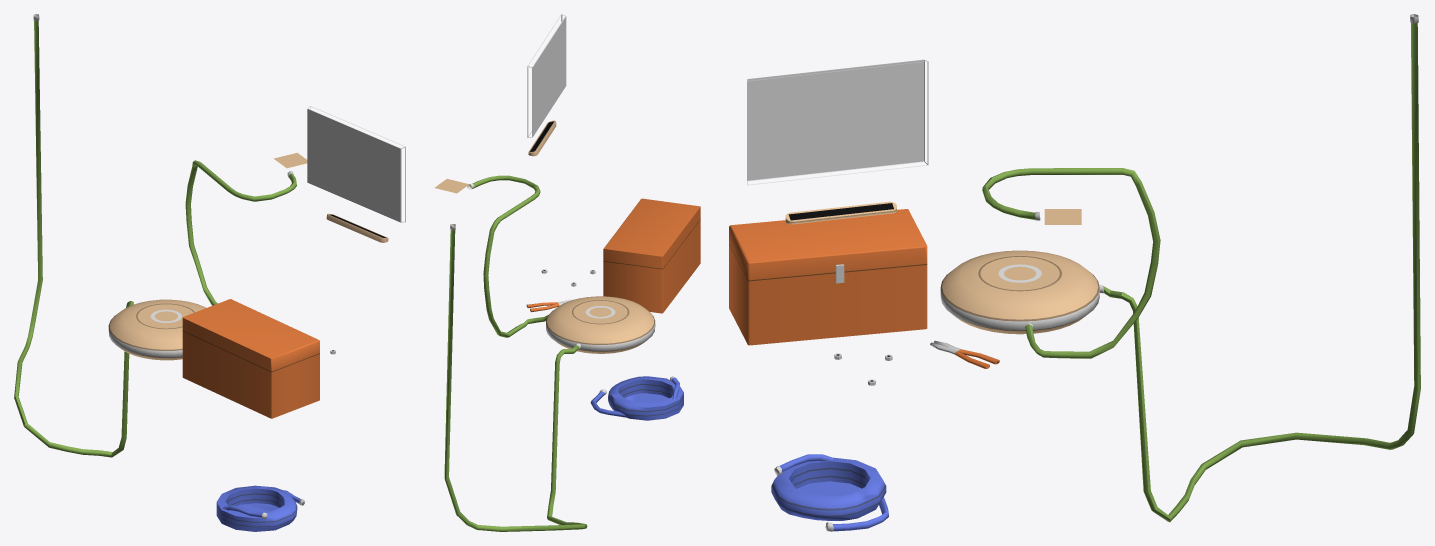
Rendered from Workstation1Clutter.fbx.
3 views of the same model, side by side, from view 1: azimuth 30°, elevation 25°; view 2: azimuth 150°, elevation 25°; view 3: azimuth 270°, elevation 25° (orthographic). The views are drawn at different scales.
Visible parts, largest first — view 1: Cube.011; view 2: Cube.011; view 3: Cube.011.
Part boxes in pixels (<box>): Cube.011: <box>14,14,405,531</box>; Cube.011: <box>434,14,700,531</box>; Cube.011: <box>729,14,1420,531</box>.
Bounding box in the file's own units: 64.51 × 111 × 130.
